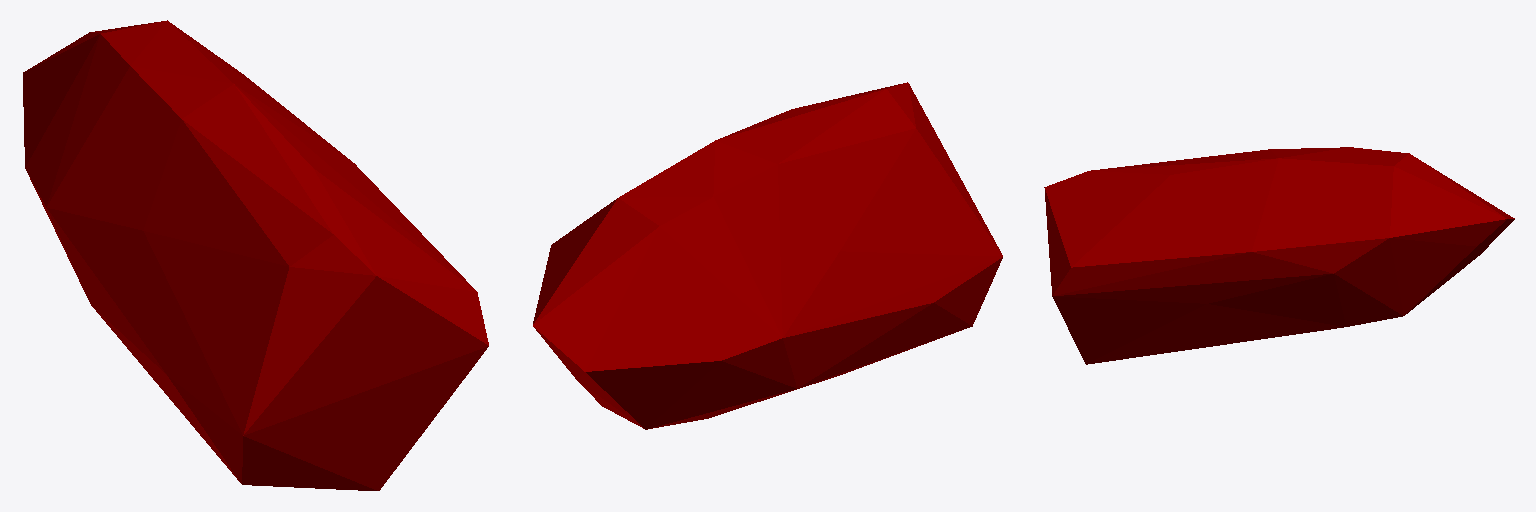
URDF robot description (bottle):
<?xml version="1.0"?>
<robot name="bottle" xmlns:drake="https://drake.mit.edu/">
    <link name="body">
        <inertial>
            <origin xyz="0 0 0" rpy="0 0 0"/>
            <mass value="0.1" />
            <inertia
                ixx="0.1253895"
                ixy="0.01651905"
                ixz="-0.01029613"
                iyy="0.17449277"
                iyz="0.00022493"
                izz="0.09330926"/>
        </inertial>
        <visual>
            <origin xyz="0 0 0" rpy="0 0 0" />
            <geometry>
                <mesh filename="bundlesdf_bottle_mesh.obj"/>
            </geometry>
            <material name="pennred">
                <color rgba="0.6 0 0 1.0" />
            </material>
        </visual>
        <collision>
            <geometry>
                <mesh filename="bundlesdf_bottle_mesh.obj"/>
            </geometry>
            <origin xyz="0 0 0" rpy="0 0 0" />
            <drake:proximity_properties>
                <drake:mu_static value="0.15" />
            </drake:proximity_properties>
        </collision>
    </link>
</robot>

--- Facts derived from the render (not from the file) ---
The picture shows the robot from 3 angles, left to right: view 1: azimuth 30°, elevation 25°; view 2: azimuth 150°, elevation 25°; view 3: azimuth 270°, elevation 25°; orthographic projection.
Model bottle with 1 links and 0 joints (none), rooted at body, posed every joint at zero.
Links seen in each view (by area): view 1: body; view 2: body; view 3: body.
Link boxes in pixels (x1,y1,x2,y2): body: (23,20,488,490); body: (533,82,1002,429); body: (1044,147,1514,364).
Bounding box of the posed robot: 0.1143 × 0.2761 × 0.1331 m (x, y, z).
1 mesh visuals loaded from 1 distinct referenced files (1 OBJ).
